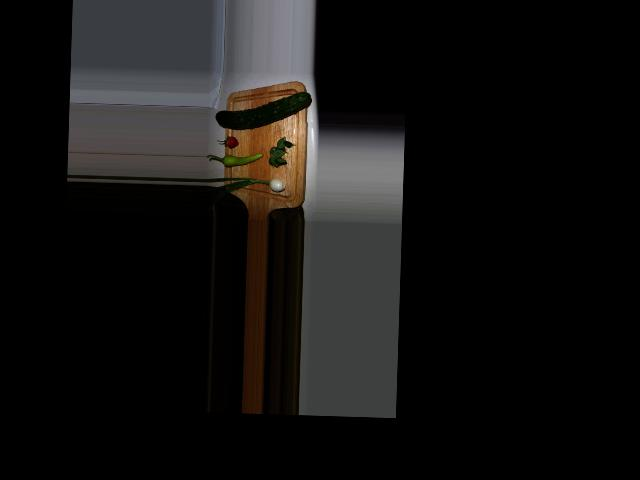cucumber: (216, 88, 311, 131)
